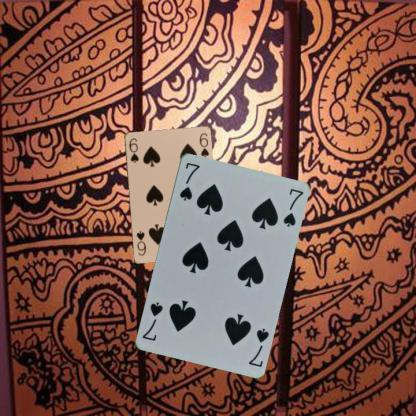6s: (126, 135, 140, 164)
7s: (176, 160, 202, 202), (246, 325, 270, 368)
